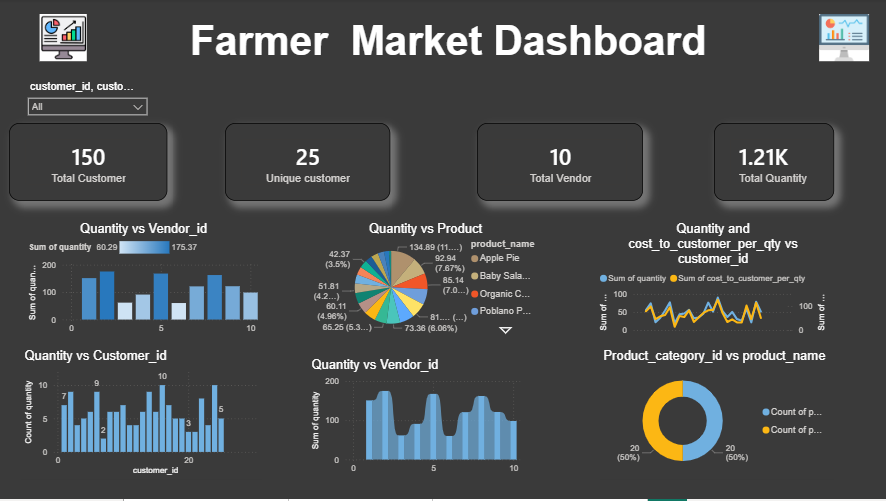

This screenshot's page, from the dashboard's own definition file:
{"tool":"powerbi","page":{"name":"quantity waise analysis","canvas":[1280,720],"ordinal":0},"visuals":[{"type":"columnChart","title":"Quantity vs Customer_id","fields":{"Category":["customer_purchases.customer_id"],"Y":["CountNonNull(customer_purchases.quantity)"]},"box":[31.7,502.6,347,188.6],"z":0},{"type":"slicer","fields":{"Values":["customer_purchases.customer_id","customer_purchases.customer_id","customer_purchases.quantity"]},"box":[31.7,112.3,191.5,96.5],"z":1000},{"type":"cardVisual","fields":{"Data":["Sum(customer_purchases.quantity)"]},"box":[1029.6,178.6,172.8,112.3],"z":2000},{"type":"pieChart","title":"Quantity vs Product","fields":{"Category":["dirty_product.product_name"],"Y":["Sum(customer_purchases.quantity)"]},"box":[445,319.7,338.4,169.9],"z":3000},{"type":"ribbonChart","title":" Quantity vs Vendor_id","fields":{"Category":["customer_purchases.vendor_id"],"Y":["Sum(customer_purchases.quantity)"]},"box":[445,515.5,311,175.7],"z":4000},{"type":"columnChart","title":"Quantity vs Vendor_id","fields":{"Category":["dirty_vendor.vendor_id"],"Y":["Sum(customer_purchases.quantity)"]},"box":[37.4,319.7,341.3,169.9],"z":5000},{"type":"donutChart","title":" Product_category_id vs product_name","fields":{"Y":["CountNonNull(dirty_product.product_category_id)","CountNonNull(dirty_product.product_name)"]},"box":[865.4,502.6,337,188.6],"z":6000},{"type":"textbox","box":[128.2,21.6,1036.8,90.7],"z":7000},{"type":"image","box":[37.4,21.6,109.4,67.7],"z":8000},{"type":"image","box":[1165,21.6,103.7,67.7],"z":9000},{"type":"cardVisual","fields":{"Data":["Count(customer_purchases.vendor_id)"]},"box":[688.3,178.6,239,112.3],"z":10000},{"type":"cardVisual","fields":{"Data":["CountNonNull(customer_purchases.customer_id)"]},"box":[14.4,178.6,227.5,112.3],"z":11000},{"type":"lineChart","title":" Quantity and cost_to_customer_per_qty vs customer_id","fields":{"Category":["customer_purchases.customer_id"],"Y":["Sum(customer_purchases.quantity)"],"Y2":["Sum(customer_purchases.cost_to_customer_per_qty)"]},"box":[859.7,319.7,337,169.9],"z":12001},{"type":"cardVisual","fields":{"Data":["Count(customer_purchases.customer_id)"]},"box":[325.4,178.6,237.6,112.3],"z":12002}]}

Visuals, with their boxes in screenshot pixels (x1, y1, x2, y2), scaled from the page's 1280x720 canvas onto the 886x501 screenshot:
"Quantity vs Customer_id" columnChart: region(22, 350, 262, 481)
slicer - customer_purchases.customer_id x customer_purchases.customer_id: region(22, 78, 154, 145)
cardVisual - Sum(customer_purchases.quantity): region(713, 124, 832, 202)
"Quantity vs Product" pieChart: region(308, 222, 542, 341)
" Quantity vs Vendor_id" ribbonChart: region(308, 359, 523, 481)
"Quantity vs Vendor_id" columnChart: region(26, 222, 262, 341)
" Product_category_id vs product_name" donutChart: region(599, 350, 832, 481)
textbox: region(89, 15, 806, 78)
image: region(26, 15, 102, 62)
image: region(806, 15, 878, 62)
cardVisual - Count(customer_purchases.vendor_id): region(476, 124, 642, 202)
cardVisual - CountNonNull(customer_purchases.customer_id): region(10, 124, 167, 202)
" Quantity and cost_to_customer_per_qty vs customer_id" lineChart: region(595, 222, 828, 341)
cardVisual - Count(customer_purchases.customer_id): region(225, 124, 390, 202)
